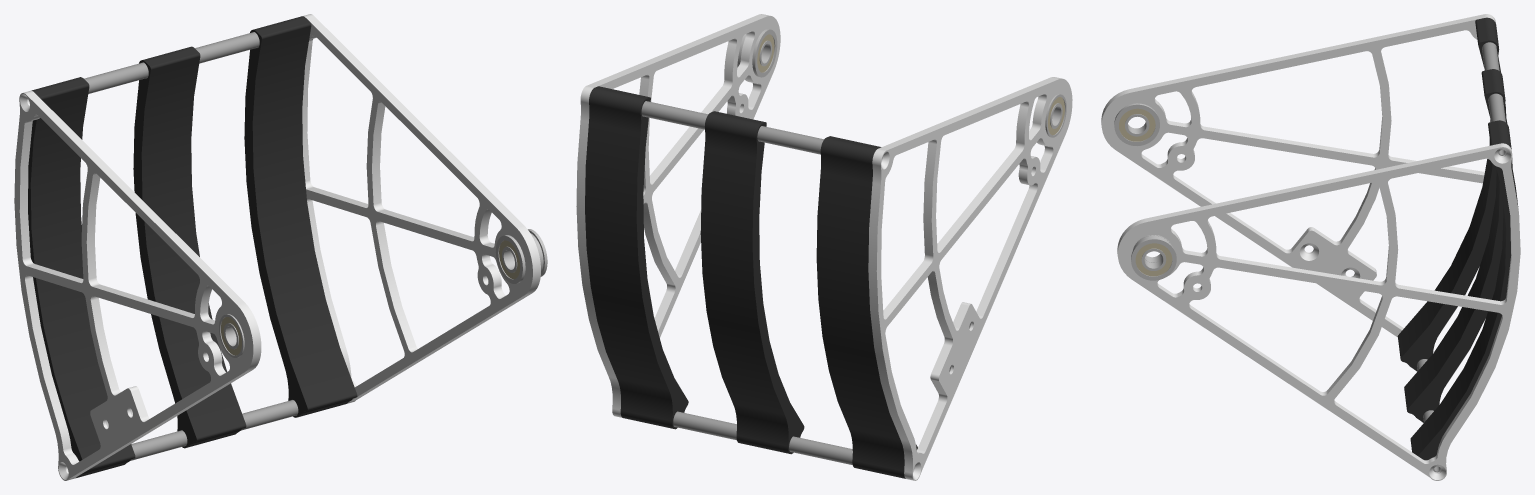
The picture shows the model from 3 angles, left to right: view 1: azimuth 30°, elevation 25°; view 2: azimuth 150°, elevation 25°; view 3: azimuth 270°, elevation 25°; orthographic projection. The views are drawn at different scales.
Parts seen in each view (by area): view 1: hood backing print (×3), lead screw hood plate, hood plate, hood standoff (×2), 3/8" Rounded Hex (10.25mm) ID Bearing (0.875" OD, 0.281" WD, (×2); view 2: hood backing print (×3), lead screw hood plate, hood plate, hood standoff (×2), 3/8" Rounded Hex (10.25mm) ID Bearing (0.875" OD, 0.281" WD, (×2); view 3: hood plate, lead screw hood plate, hood backing print (×3), 3/8" Rounded Hex (10.25mm) ID Bearing (0.875" OD, 0.281" WD, (×2), hood standoff.
Part boxes in pixels (x1,y1,x2,y2): hood backing print (×3): (28, 16, 357, 478); lead screw hood plate: (14, 90, 261, 480); hood plate: (302, 14, 540, 403); hood standoff (×2): (84, 32, 298, 460); 3/8" Rounded Hex (10.25mm) ID Bearing (0.875" OD, 0.281" WD, (×2): (219, 235, 525, 357); hood backing print (×3): (585, 86, 917, 478); lead screw hood plate: (868, 77, 1072, 480); hood plate: (576, 14, 780, 417); hood standoff (×2): (641, 101, 852, 464); 3/8" Rounded Hex (10.25mm) ID Bearing (0.875" OD, 0.281" WD, (×2): (752, 29, 1066, 137); hood plate: (1117, 143, 1520, 480); lead screw hood plate: (1101, 14, 1501, 337); hood backing print (×3): (1397, 17, 1518, 460); 3/8" Rounded Hex (10.25mm) ID Bearing (0.875" OD, 0.281" WD, (×2): (1114, 103, 1176, 280); hood standoff: (1482, 42, 1506, 155).
Bounding box in the file's own units: 0.1885 × 0.1972 × 0.2255.
